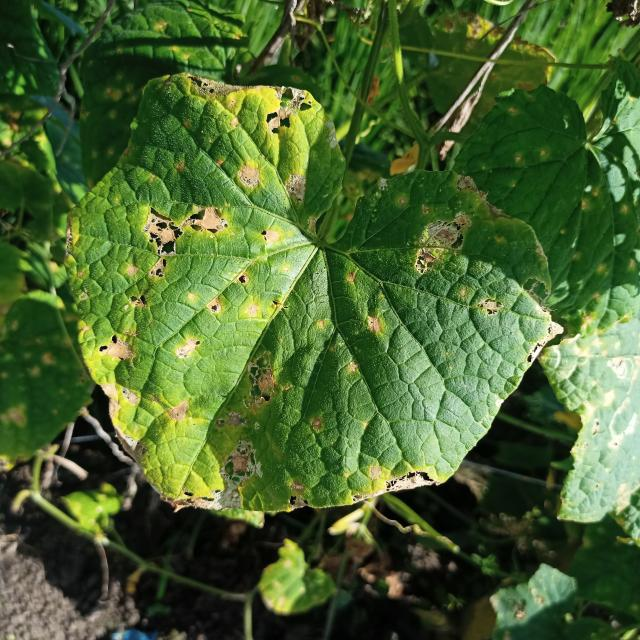disease_cucumber: (70, 74, 516, 512)
